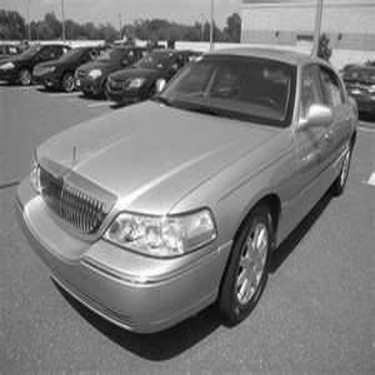car: (14, 37, 365, 343), (103, 50, 204, 100), (75, 44, 152, 97), (33, 42, 101, 89), (1, 46, 71, 83), (343, 64, 372, 121)
